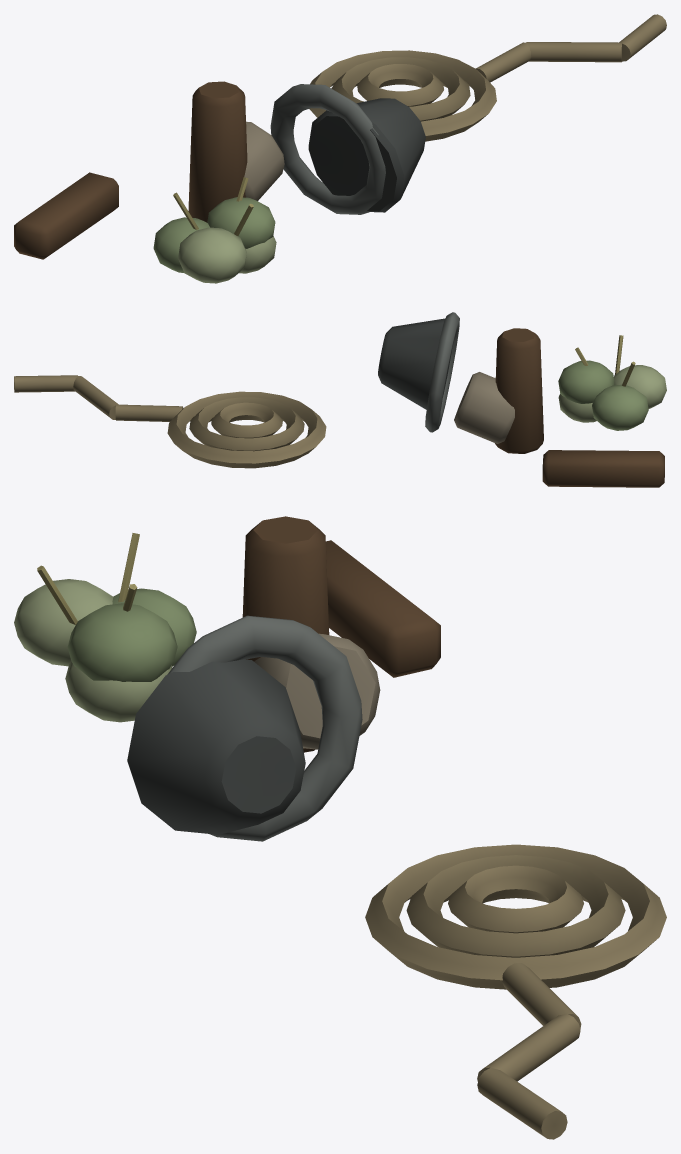
The model's file is shift_bell_b.glb.
3 renders of one model, top to bottom at view 1: azimuth 30°, elevation 25°; view 2: azimuth 150°, elevation 25°; view 3: azimuth 270°, elevation 25°, orthographic. The views are drawn at different scales.
Parts seen in each view (by area): view 1: Surface; view 2: Surface; view 3: Surface.
Boxes of the visible parts, x1,y1,x2,y2 form: Surface: [14, 14, 666, 283]; Surface: [14, 312, 666, 487]; Surface: [14, 516, 666, 1139].
Bounding box in the file's own units: 5.07 × 0.9763 × 2.55.
